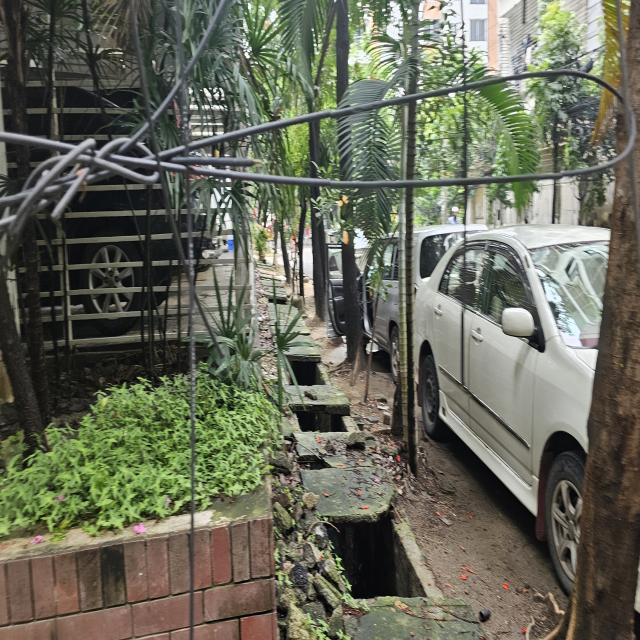artificial_container: (260, 254, 265, 262)
drain_inlet: (320, 512, 431, 602), (289, 402, 352, 432), (278, 355, 326, 386), (266, 294, 288, 304)
